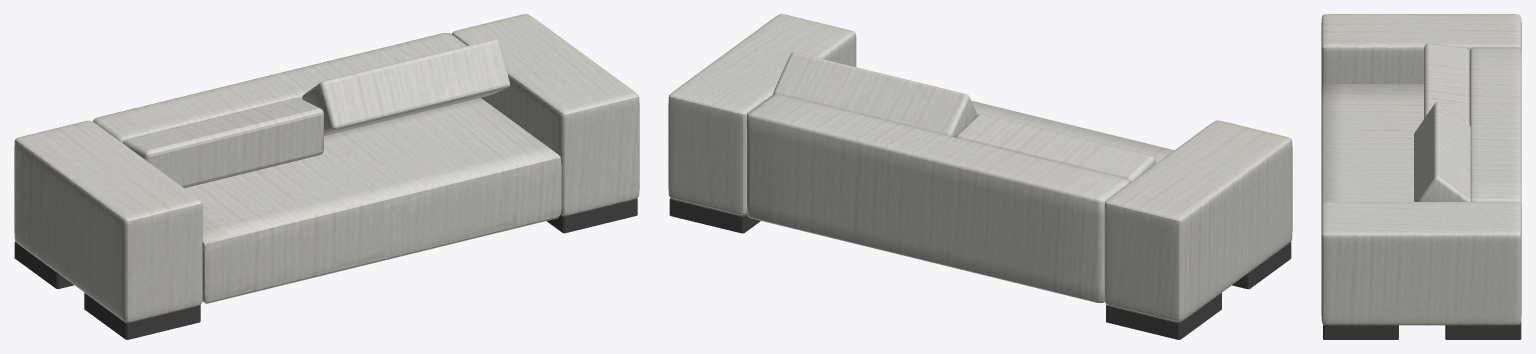
The model's file is Polantis-Passion-3D.FBX.
3 views of the same model, side by side, from view 1: azimuth 30°, elevation 25°; view 2: azimuth 150°, elevation 25°; view 3: azimuth 270°, elevation 25° (orthographic). The views are drawn at different scales.
Parts seen in each view (by area): view 1: Passion; view 2: Passion; view 3: Passion.
Boxes of the visible parts, x1,y1,x2,y2 form: Passion: (14,14,639,339); Passion: (668,14,1292,339); Passion: (1321,14,1521,339).
Bounding box in the file's own units: 1.69 × 0.6452 × 0.4621.
2 materials, 1 textured.
